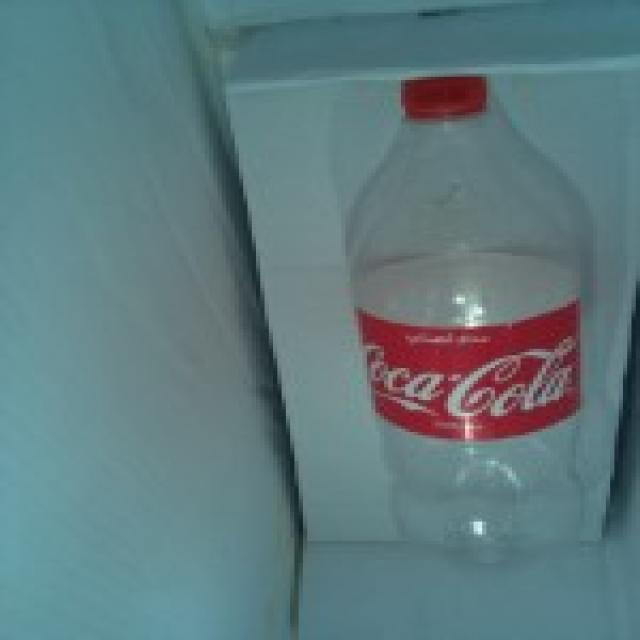BIODEGRADABLE: (338, 58, 604, 576)
